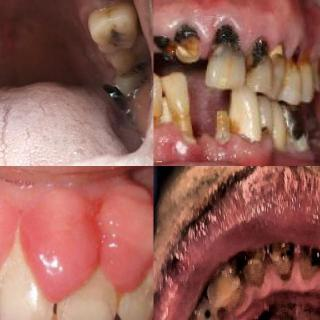Gum Swelling: (0, 199, 154, 286)
calculus: (262, 41, 294, 68), (285, 134, 320, 154)
cavities: (209, 24, 247, 76), (244, 34, 270, 79), (100, 20, 132, 56), (234, 247, 266, 279), (294, 239, 320, 274), (267, 240, 293, 272), (130, 54, 150, 80), (257, 120, 275, 148)
maligned: (164, 78, 194, 142), (153, 75, 167, 145)
stains: (294, 46, 320, 76), (282, 57, 304, 81)
